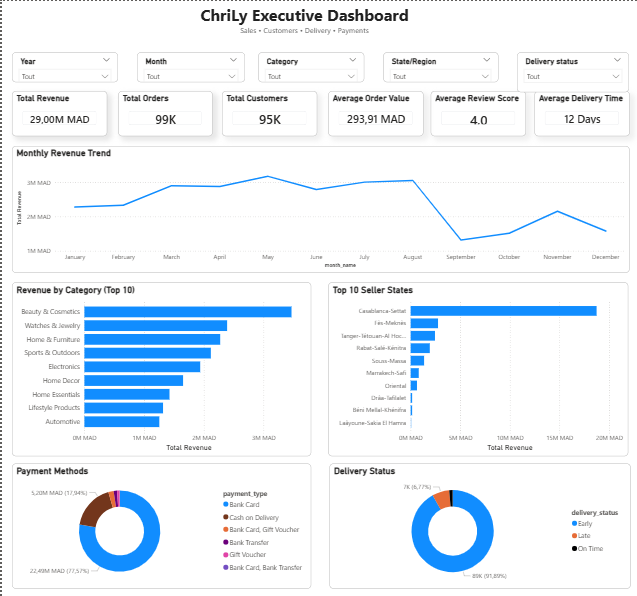

The dashboard page shown, as its layout file describes it:
{"tool":"powerbi","page":{"name":"Executive Overview","canvas":[1280,1200],"ordinal":0},"visuals":[{"type":"cardVisual","title":"Total Revenue","fields":{"Data":["Measures (2).Total Revenue"]},"box":[20,180,190,90],"z":0},{"type":"cardVisual","title":"Total Orders","fields":{"Data":["Measures (2).Total Orders"]},"box":[232.9,180,188.6,90],"z":1000},{"type":"cardVisual","title":"Total Customers","fields":{"Data":["Measures (2).Total Customers"]},"box":[440,180,190,90],"z":2000},{"type":"cardVisual","title":"Average Review Score","fields":{"Data":["Measures (2).Average Review Score"]},"box":[857.1,180,190,90],"z":3000},{"type":"cardVisual","title":"Average Delivery Time","fields":{"Data":["Measures (2).Average Delivery Time"]},"box":[1064.3,180,190,90],"z":4000},{"type":"cardVisual","title":"Average Order Value","fields":{"Data":["Measures (2).Average Order Value"]},"box":[651.4,180,190,90],"z":5000},{"type":"textbox","box":[0,0,1210,80],"z":6000},{"type":"lineChart","title":"Monthly Revenue Trend","fields":{"Y":["Measures (2).Total Revenue"],"Category":["chrily vw_sales.month_name"]},"box":[20.4,290.7,1235.2,253.7],"z":7000},{"type":"clusteredBarChart","title":"Revenue by Category (Top 10)","fields":{"Category":["chrily vw_sales.product_category_name"],"Y":["Measures (2).Total Revenue"]},"box":[20.4,563,598.1,348.1],"z":8000},{"type":"donutChart","title":"Payment Methods","fields":{"Category":["chrily vw_sales.payment_type"],"Y":["Measures (2).Total Revenue"]},"box":[20,926,598,250],"z":9000},{"type":"donutChart","title":"Delivery Status","fields":{"Category":["chrily vw_sales.delivery_status"],"Y":["Measures (2).Total Orders"]},"box":[654,926,602,250],"z":10000},{"type":"clusteredBarChart","title":"Top 10 Seller States","fields":{"Category":["chrily vw_sales.seller_state"],"Y":["Measures (2).Total Revenue"]},"box":[653.7,563,600,348.1],"z":11000},{"type":"slicer","fields":{"Values":["chrily vw_sales.year"]},"box":[20,102,212,60],"z":12000},{"type":"slicer","fields":{"Values":["chrily vw_sales.month_name"]},"box":[270,102,216,60],"z":13000},{"type":"slicer","fields":{"Values":["chrily vw_sales.product_category_name"]},"box":[512,102,212,60],"z":14000},{"type":"slicer","fields":{"Values":["chrily vw_sales.seller_state"]},"box":[762,102,230,60],"z":15000},{"type":"slicer","fields":{"Values":["chrily vw_sales.delivery_status"]},"box":[1030,102,224,80],"z":16000}]}

Visuals, with their boxes in screenshot pixels (x1, y1, x2, y2), scaled from the page's 1280x1200 canvas onto the 637x596 screenshot:
"Total Revenue" cardVisual: l=10, t=89, r=105, b=134
"Total Orders" cardVisual: l=116, t=89, r=210, b=134
"Total Customers" cardVisual: l=219, t=89, r=314, b=134
"Average Review Score" cardVisual: l=427, t=89, r=521, b=134
"Average Delivery Time" cardVisual: l=530, t=89, r=624, b=134
"Average Order Value" cardVisual: l=324, t=89, r=419, b=134
textbox: l=0, t=0, r=602, b=40
"Monthly Revenue Trend" lineChart: l=10, t=144, r=625, b=270
"Revenue by Category (Top 10)" clusteredBarChart: l=10, t=280, r=308, b=453
"Payment Methods" donutChart: l=10, t=460, r=308, b=584
"Delivery Status" donutChart: l=325, t=460, r=625, b=584
"Top 10 Seller States" clusteredBarChart: l=325, t=280, r=624, b=453
slicer - chrily vw_sales.year: l=10, t=51, r=115, b=80
slicer - chrily vw_sales.month_name: l=134, t=51, r=242, b=80
slicer - chrily vw_sales.product_category_name: l=255, t=51, r=360, b=80
slicer - chrily vw_sales.seller_state: l=379, t=51, r=494, b=80
slicer - chrily vw_sales.delivery_status: l=513, t=51, r=624, b=90
